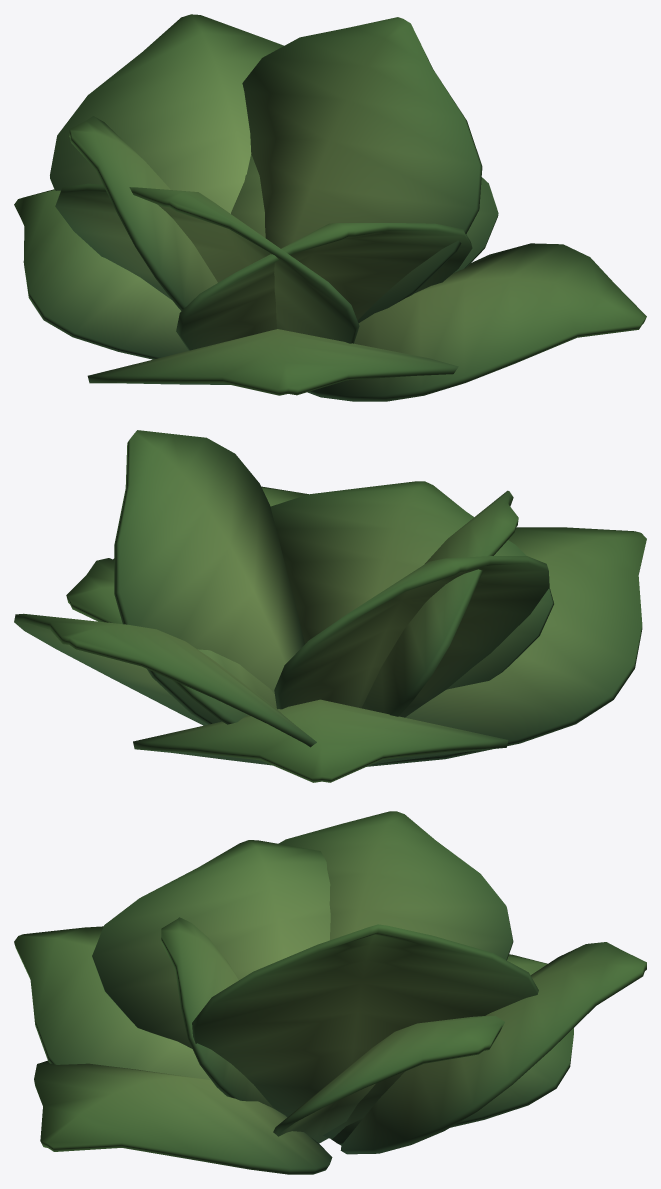
Rendered from hero_broadleaf.glb.
3 views of the same model, one above another, from view 1: azimuth 30°, elevation 25°; view 2: azimuth 150°, elevation 25°; view 3: azimuth 270°, elevation 25° (orthographic). The views are drawn at different scales.
Visible parts, largest first — view 1: hero_leaf; view 2: hero_leaf; view 3: hero_leaf.
Boxes of the visible parts, left/top/right/bottom form: hero_leaf: left=14, top=14, right=646, bottom=401; hero_leaf: left=14, top=430, right=646, bottom=782; hero_leaf: left=14, top=811, right=646, bottom=1174.
Size of the model in its own units: 0.8718 by 0.5221 by 1.02.
